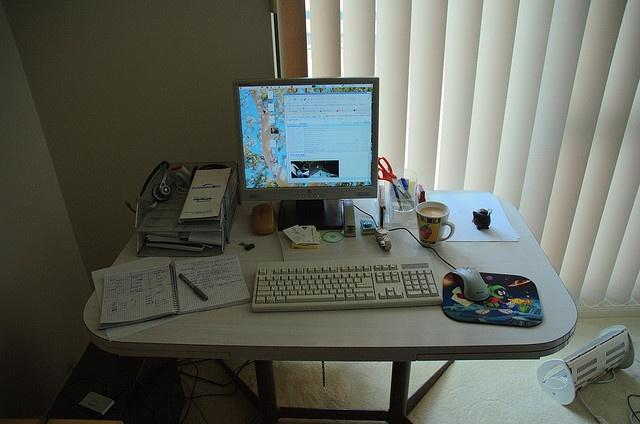AIO PC-Monitor-TV: (231, 76, 380, 202)
Meja: (80, 191, 578, 375)
